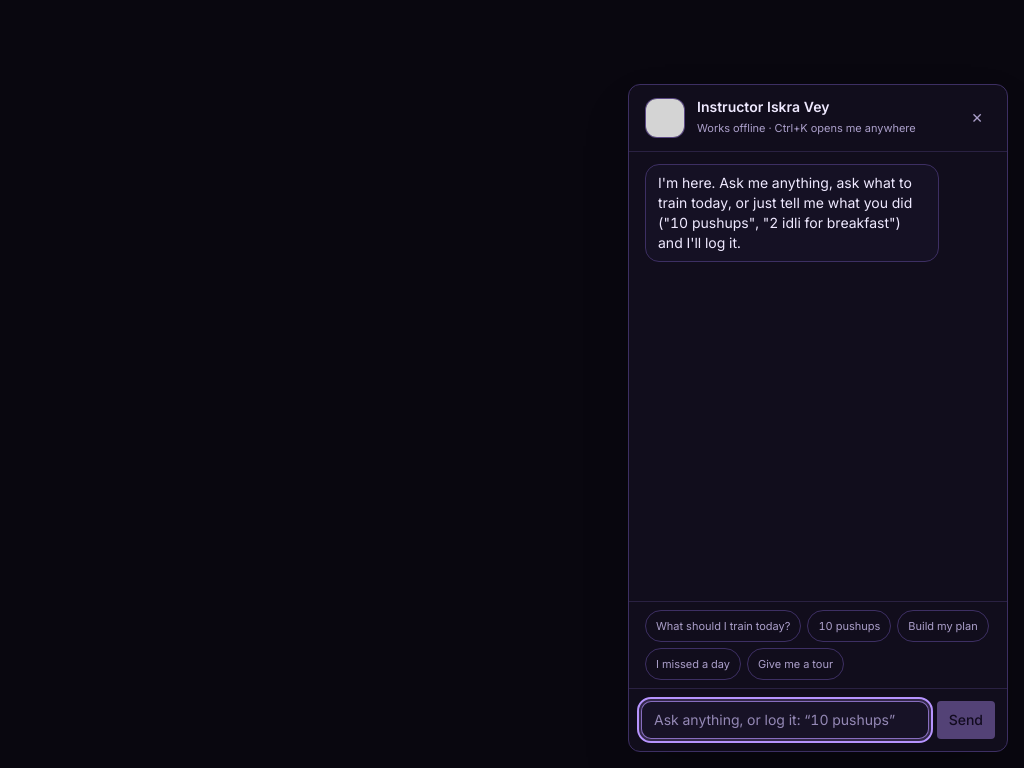
Test: TrainerChat › offers retry when the engine is unreachable
Expected: the text "Works offline · Ctrl+K opens me anywhere" is shown, [697,117,951,139]
Type "hello" into the field named "Message the trainer" at x=785, y=720, box [641,701,929,739]
Then press Enter
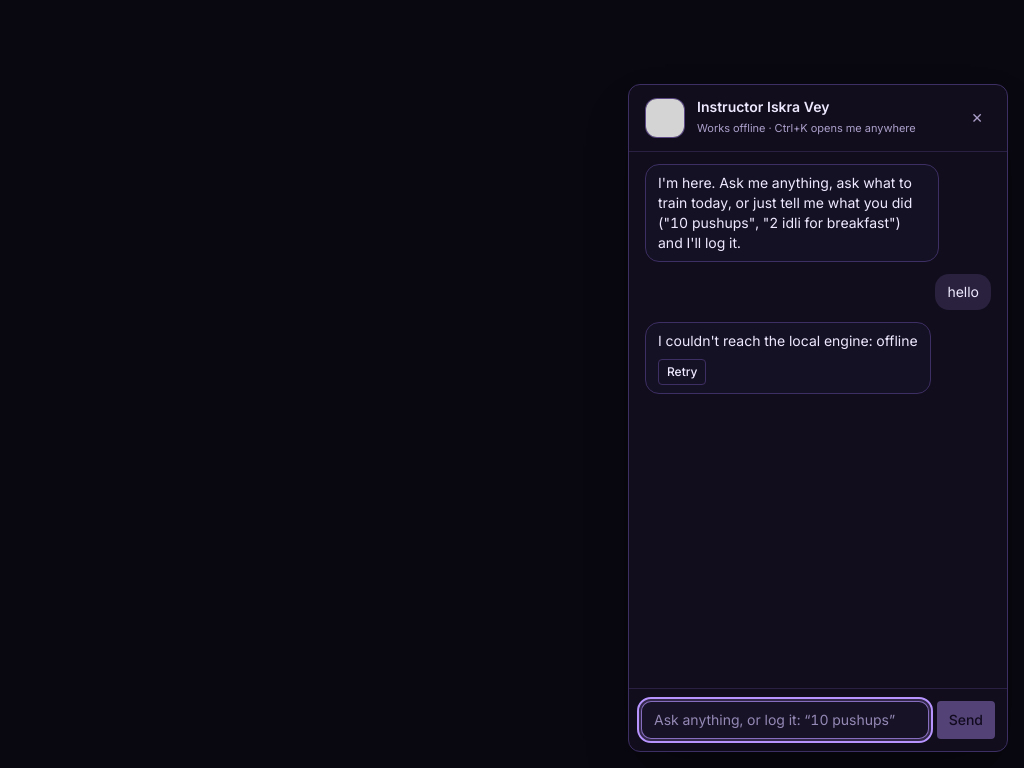
Click the button "Retry" at x=682, y=372, box [658,359,706,385]
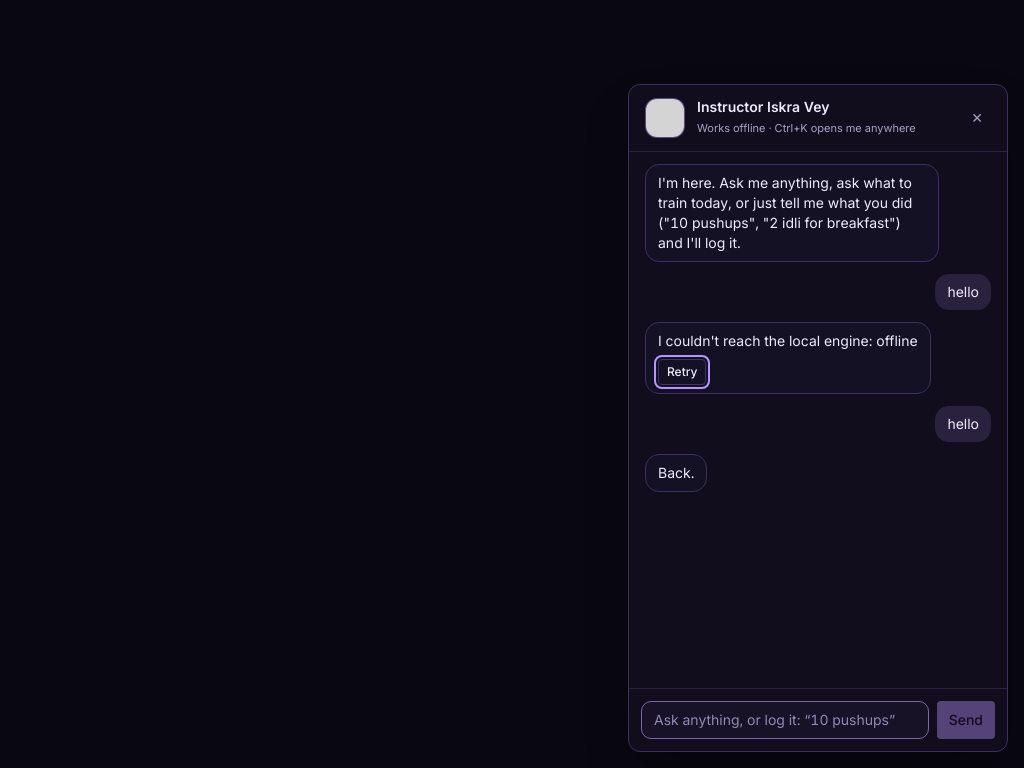
Expected: the text "Back." is shown, [658,463,694,483]
